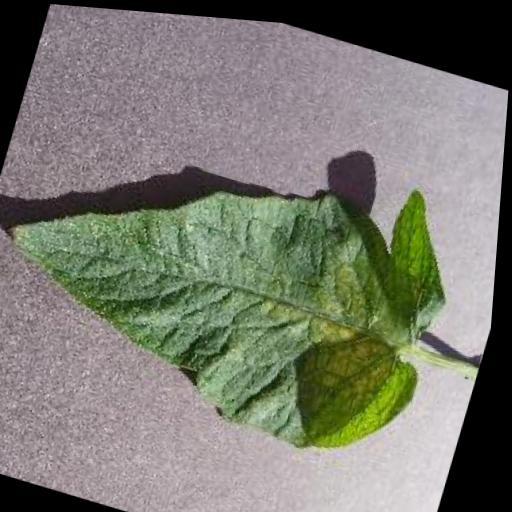Spider Mites: (0, 72, 479, 474)
